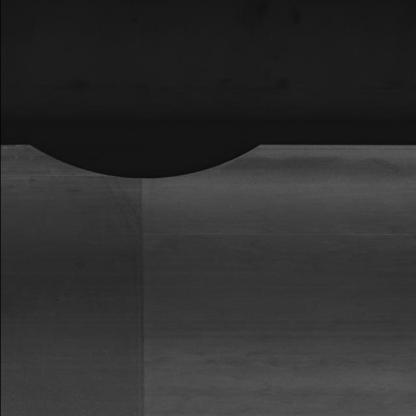welding_line: (125, 171, 158, 412)
